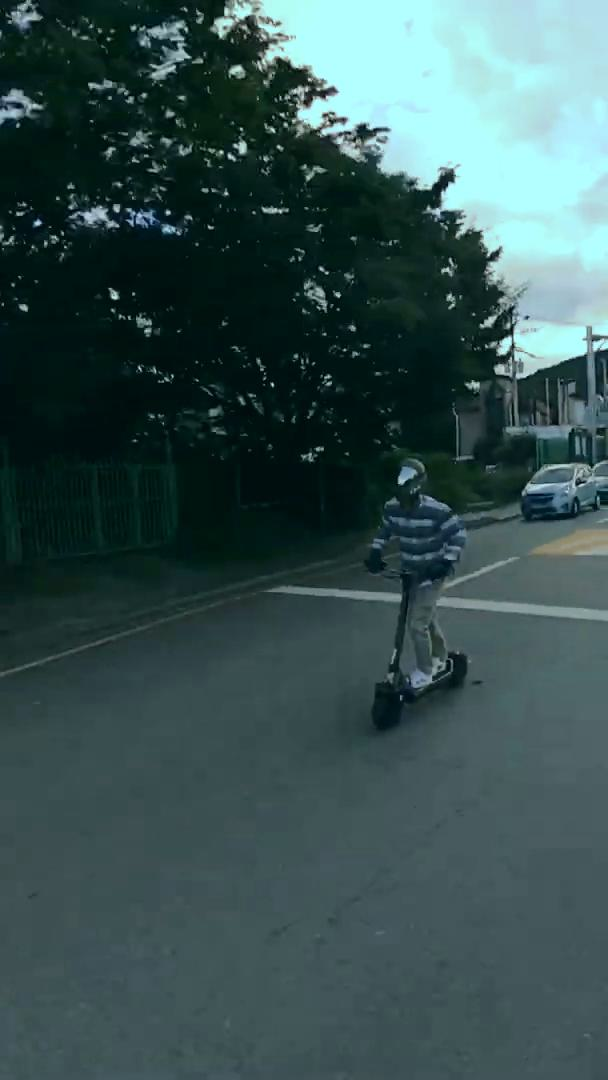helmet: (363, 454, 474, 735)
